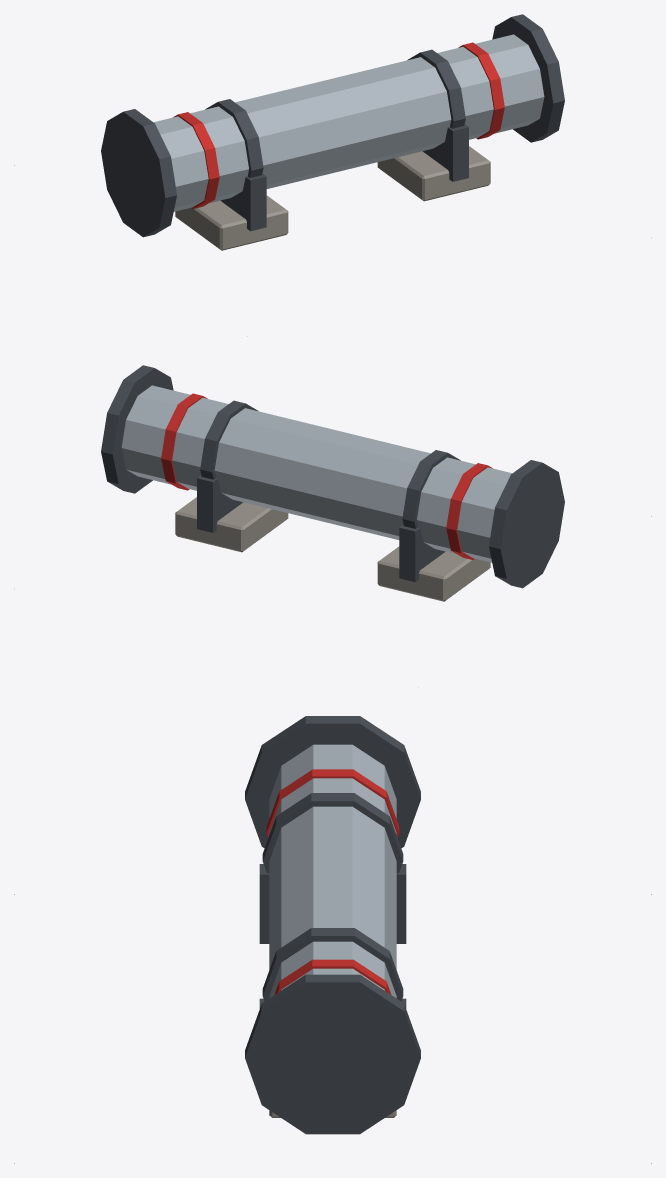
The model's file is tuyau_droit_t3.glb.
3 views of the same model, one above another, from view 1: azimuth 30°, elevation 25°; view 2: azimuth 150°, elevation 25°; view 3: azimuth 270°, elevation 25° (orthographic). The views are drawn at different scales.
Visible parts, largest first — view 1: pieces_inox.014, pieces_acier_sombre.044, pieces_beton.044, pieces_rive_t3.014; view 2: pieces_inox.014, pieces_acier_sombre.044, pieces_beton.044, pieces_rive_t3.014; view 3: pieces_acier_sombre.044, pieces_inox.014, pieces_rive_t3.014.
Part boxes in pixels (left/top/right/bottom): pieces_inox.014: left=154, top=34, right=544, bottom=211; pieces_acier_sombre.044: left=101, top=14, right=564, bottom=237; pieces_beton.044: left=175, top=146, right=490, bottom=250; pieces_rive_t3.014: left=173, top=42, right=504, bottom=208; pieces_inox.014: left=121, top=385, right=511, bottom=562; pieces_acier_sombre.044: left=101, top=365, right=564, bottom=588; pieces_beton.044: left=175, top=497, right=490, bottom=601; pieces_rive_t3.014: left=161, top=393, right=492, bottom=559; pieces_acier_sombre.044: left=245, top=716, right=420, bottom=1134; pieces_inox.014: left=269, top=744, right=396, bottom=998; pieces_rive_t3.014: left=266, top=769, right=399, bottom=994.
Bounding box in the file's own units: 1 × 0.3112 × 1.
